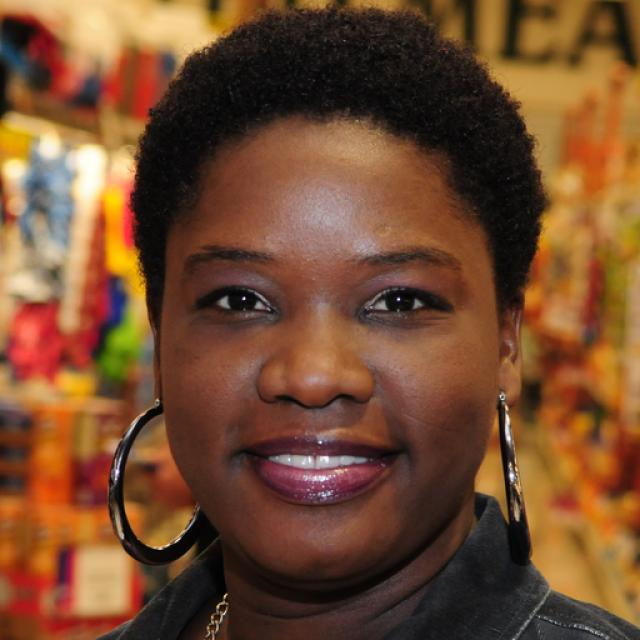happy: (160, 118, 499, 580)
